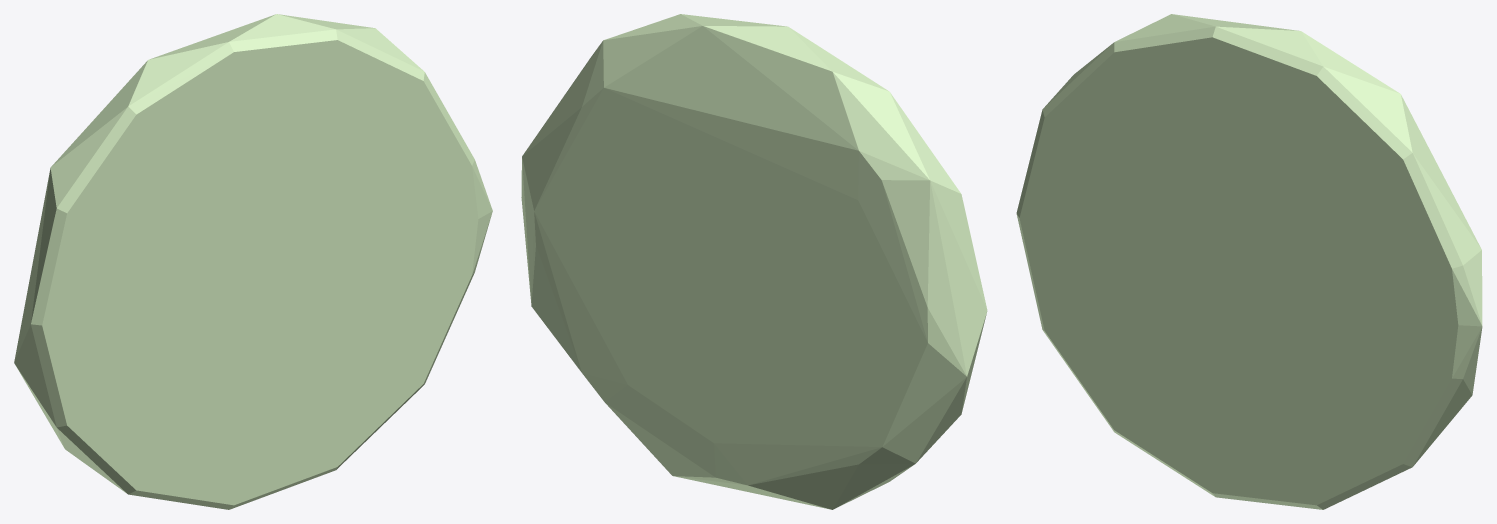
File: kuka_link8_resp_coll_2.dae
3 views of the same model, side by side, from view 1: azimuth 30°, elevation 25°; view 2: azimuth 150°, elevation 25°; view 3: azimuth 330°, elevation 25° (orthographic).
Parts seen in each view (by area): view 1: Node_0000015C5C913BC0; view 2: Node_0000015C5C913BC0; view 3: Node_0000015C5C913BC0.
Part boxes in pixels (left/top/right/bottom): Node_0000015C5C913BC0: left=14, top=14, right=492, bottom=509; Node_0000015C5C913BC0: left=521, top=14, right=987, bottom=509; Node_0000015C5C913BC0: left=1016, top=14, right=1482, bottom=509.
Size of the model in its own units: 0.0647 by 0.0625 by 0.00818.
